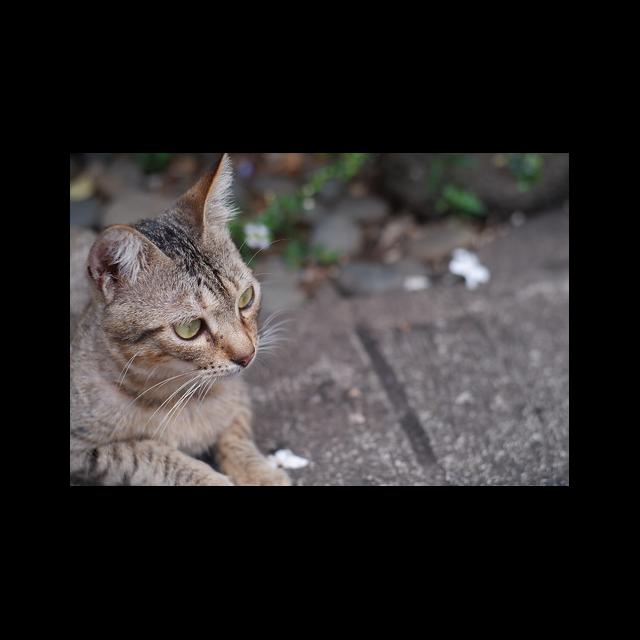animals: (70, 154, 292, 486)
